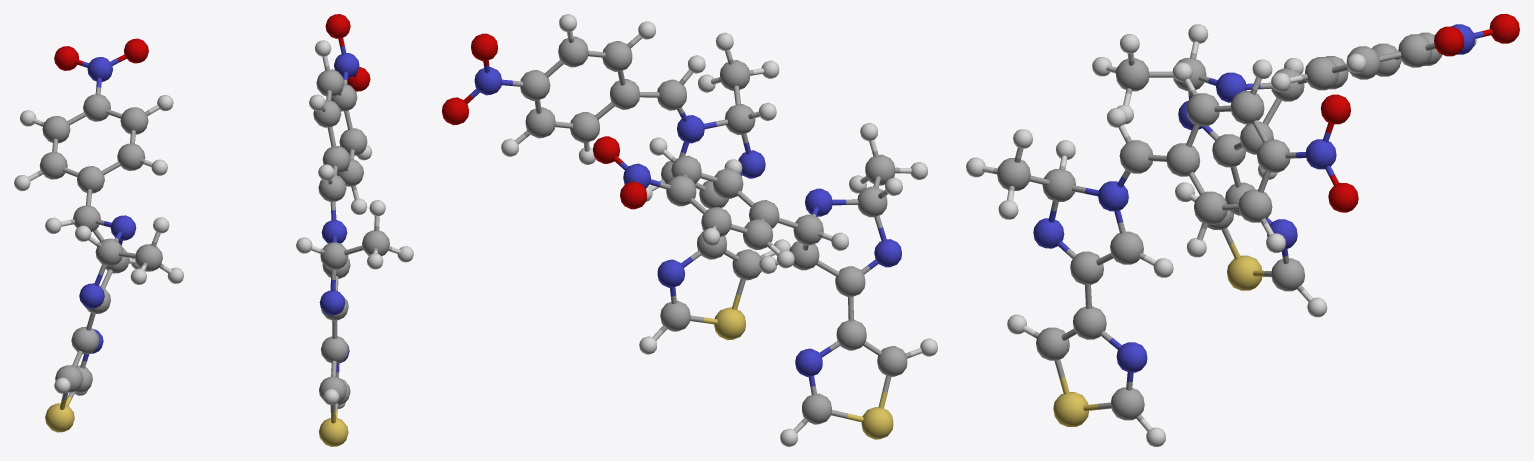
Rendered from ThA-BA.glb.
3 renders of one model, left to right at view 1: azimuth 30°, elevation 25°; view 2: azimuth 150°, elevation 25°; view 3: azimuth 270°, elevation 25°, orthographic. The views are drawn at different scales.
Visible parts, largest first — view 1: ThA-BA; view 2: ThA-BA; view 3: ThA-BA.
Part boxes in pixels (x1,y1,x2,y2): ThA-BA: (14, 14, 413, 446); ThA-BA: (442, 14, 937, 446); ThA-BA: (966, 14, 1519, 446).
Bounding box in the file's own units: 2.57 × 2.15 × 2.66.
